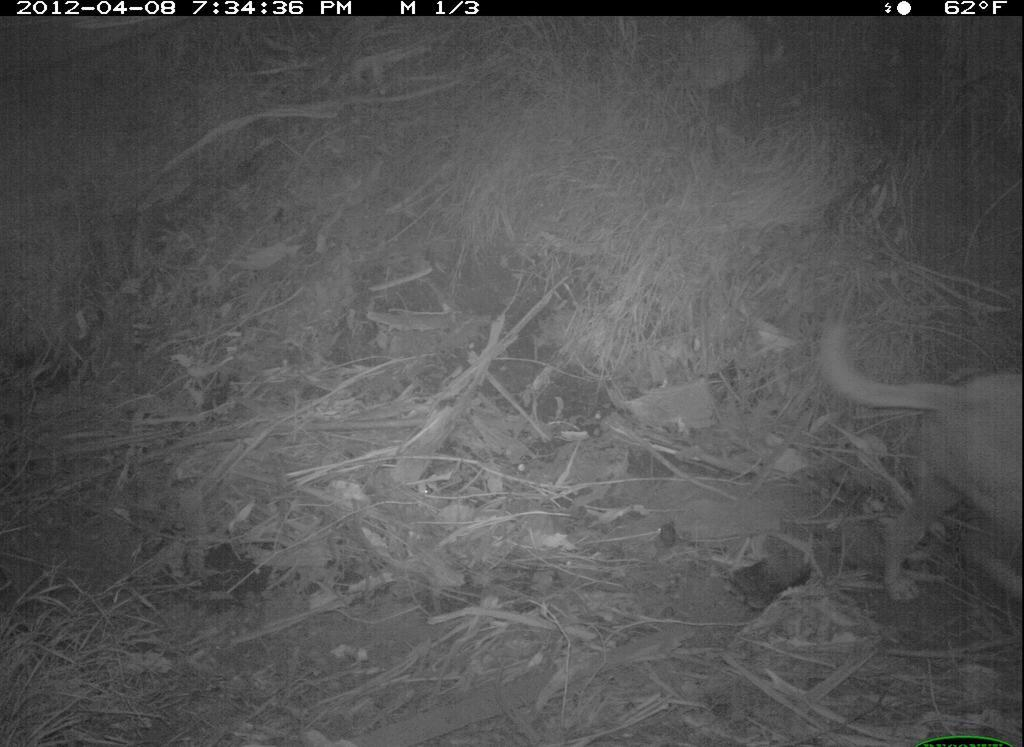dog: (816, 306, 1021, 612)
